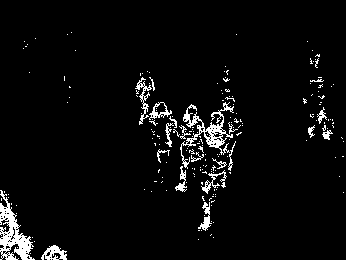person: (198, 110, 231, 233), (174, 103, 203, 195), (146, 100, 176, 180), (218, 96, 243, 176), (135, 70, 157, 125)
